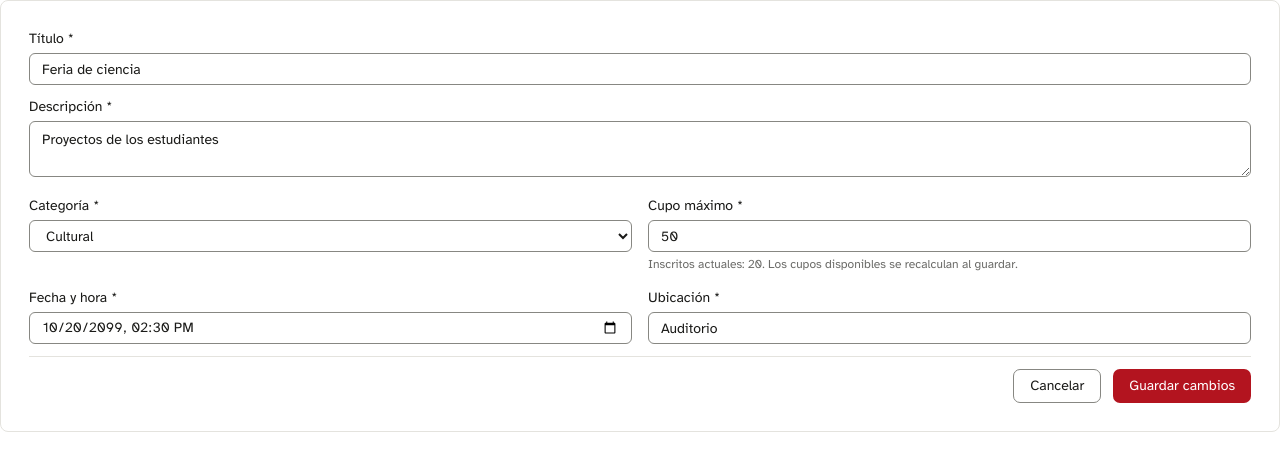
it: FormularioEvento › editar (HU-06) › rechaza un cupo menor que los inscritos indicando cuántos son
Replace the text in the number field labelled "Cupo máximo *" with "10" at (950, 236), box [648, 220, 1251, 252]
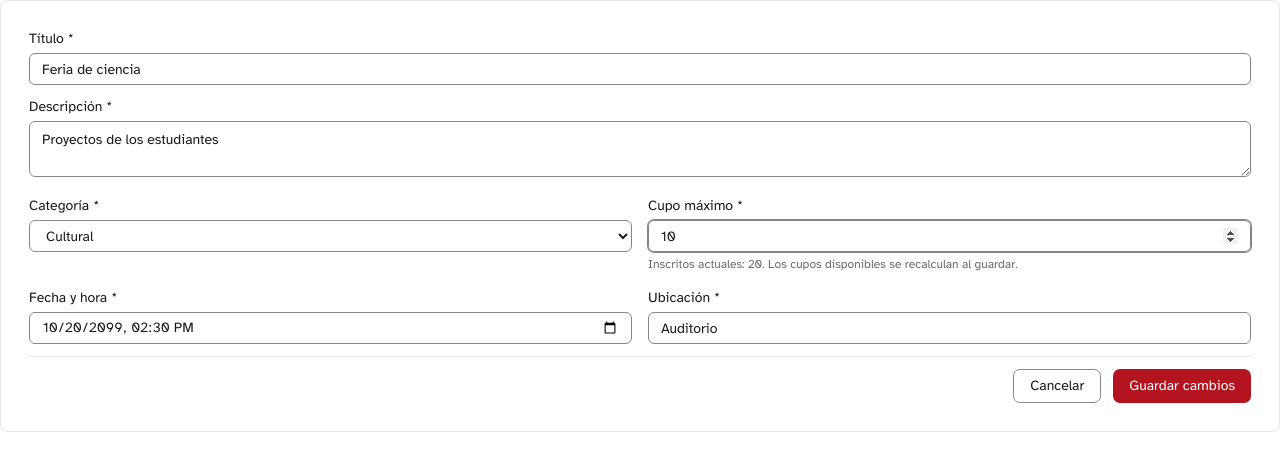
Click the button "Guardar cambios" at (1182, 386), box [1113, 369, 1251, 403]
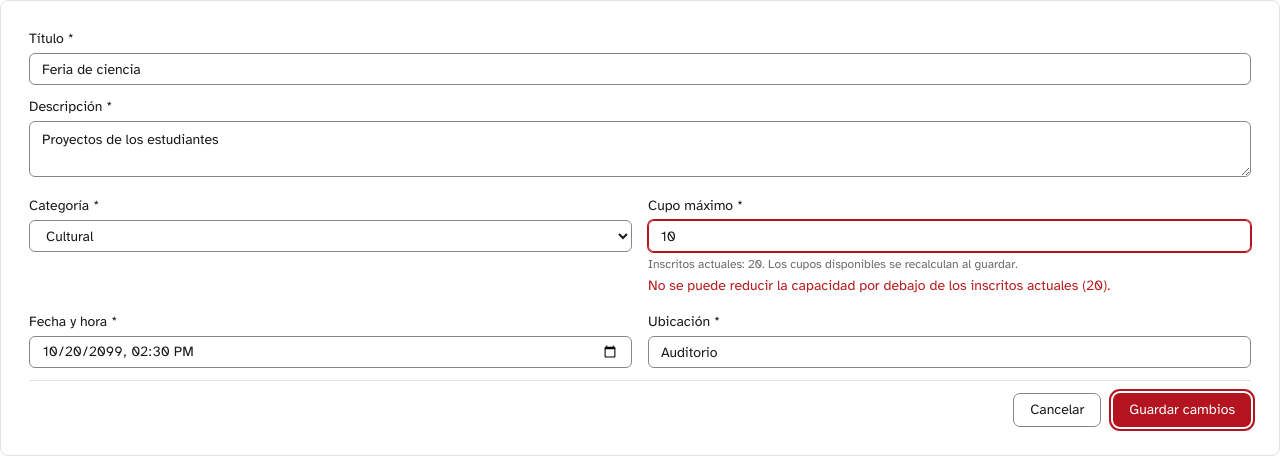
Now the text "No se puede reducir la capacidad por debajo de los inscritos actuales (20)." is shown, box [648, 277, 1110, 294]
